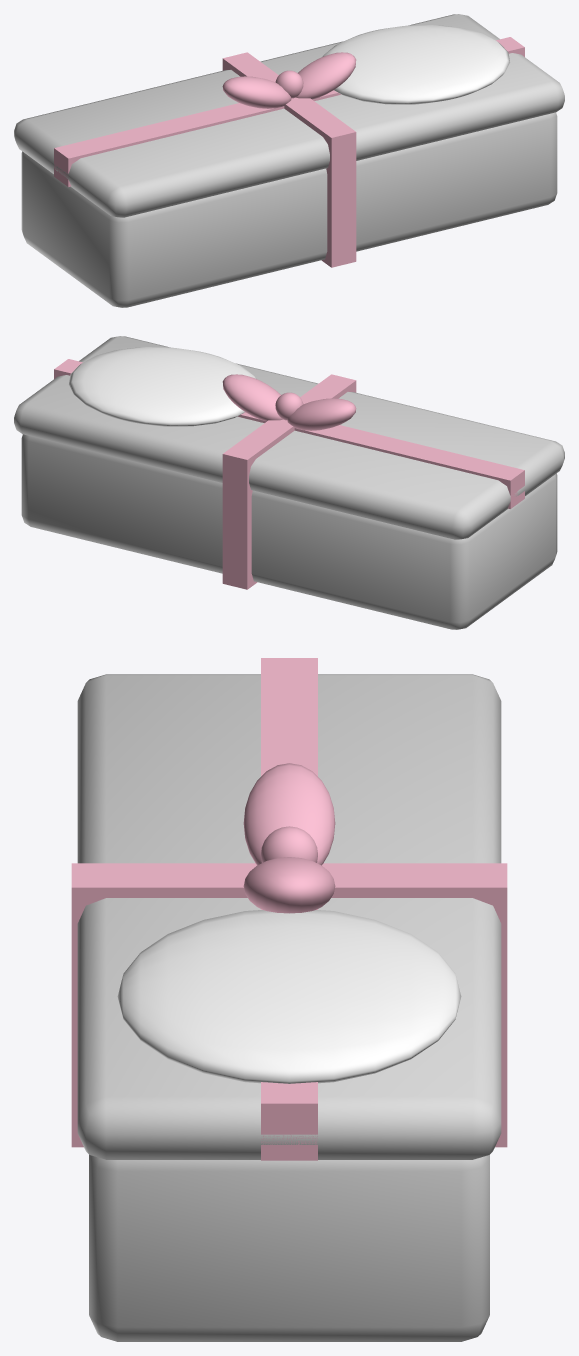
The model's file is veil_box.fbx.
3 views of the same model, one above another, from view 1: azimuth 30°, elevation 25°; view 2: azimuth 150°, elevation 25°; view 3: azimuth 270°, elevation 25° (orthographic). The views are drawn at different scales.
Parts seen in each view (by area): view 1: Grandma's Veil; view 2: Grandma's Veil; view 3: Grandma's Veil.
Boxes of the visible parts, box(x1,y1,x2,y2) form: Grandma's Veil: box(14, 14, 564, 307); Grandma's Veil: box(14, 336, 564, 629); Grandma's Veil: box(71, 658, 507, 1341).
Bounding box in the file's own units: 1.84 × 0.6064 × 0.76.
